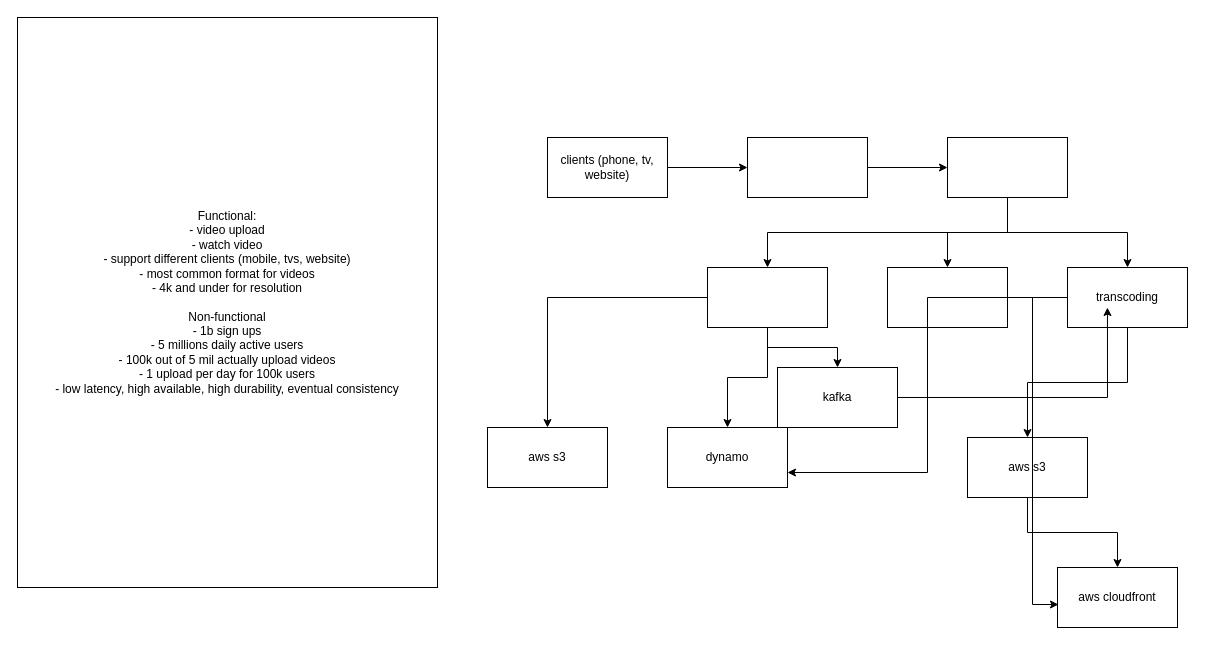
Some shapes in this 1205 by 645 pixel diagram are drawn without their labels. The shapes that lost their labels are listed below. From the top down, each one's centre as x and y in pixels, then its label:
At (x=807, y=167): "lb".
At (x=1007, y=167): "microservices (RL)".
At (x=767, y=297): "video upload".
At (x=947, y=297): "watch video".
